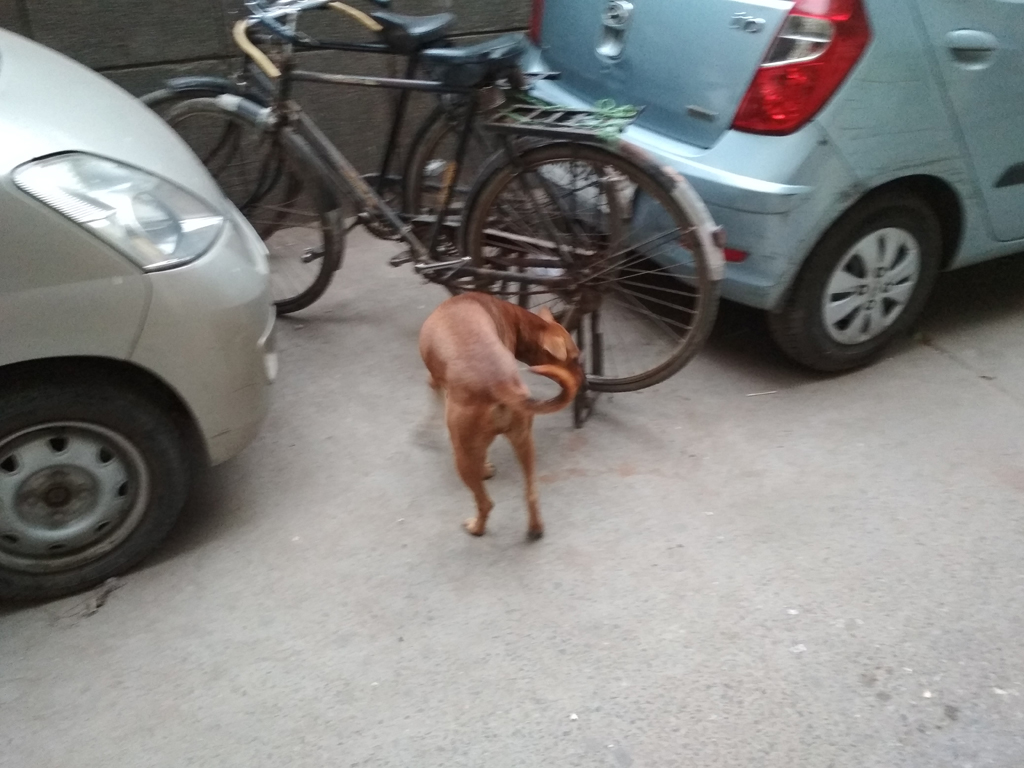dog: (418, 290, 587, 540)
